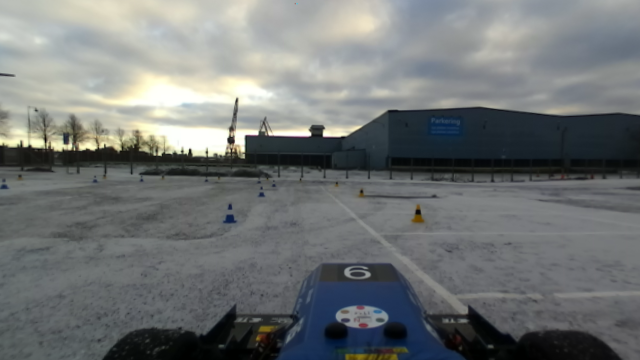blue: (223, 201, 237, 225)
yellow: (411, 203, 425, 224)
